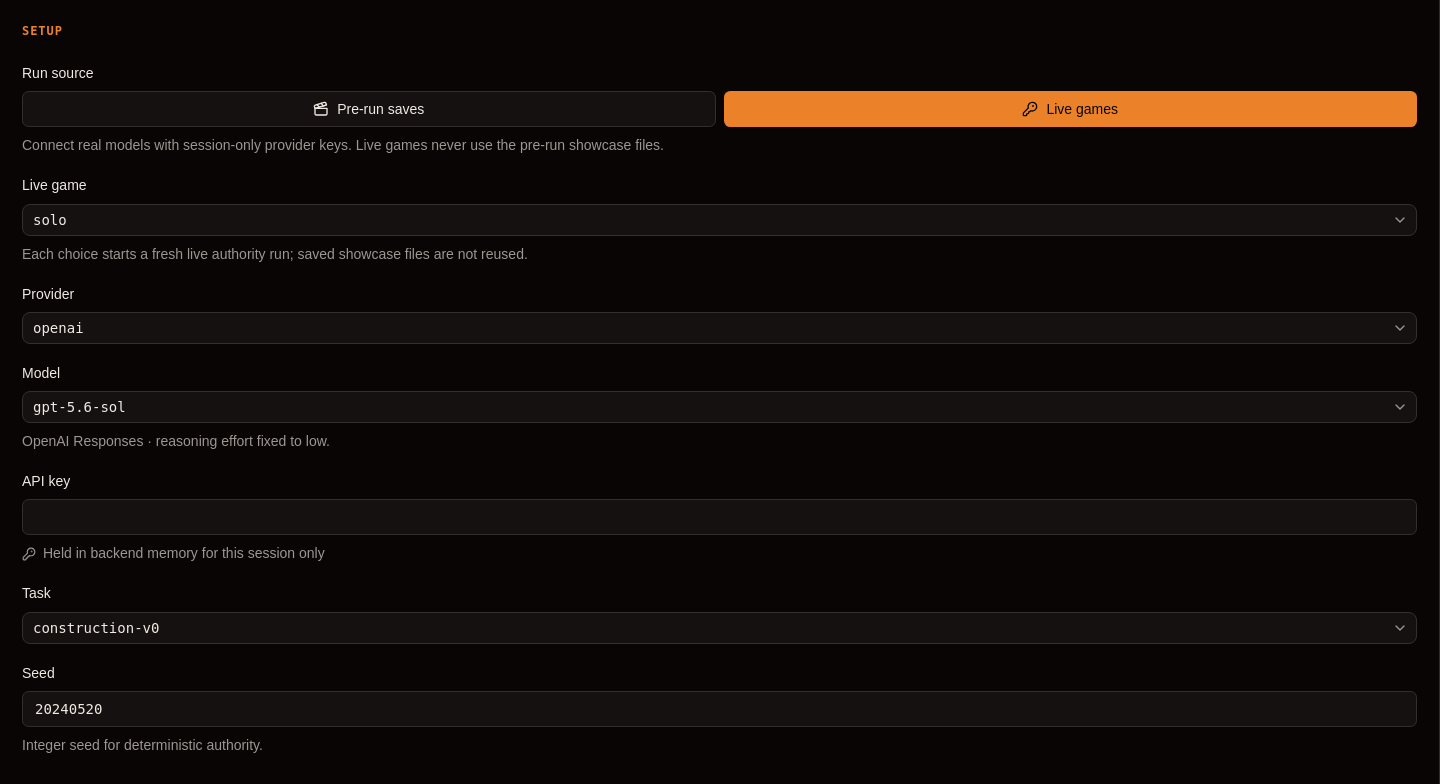
Test: SetupPanel › offers the OpenAI 5.6 family at fixed low reasoning effort
Step 1. Click the dropdown named "Model" → [79, 407], box [22,391,1417,423]
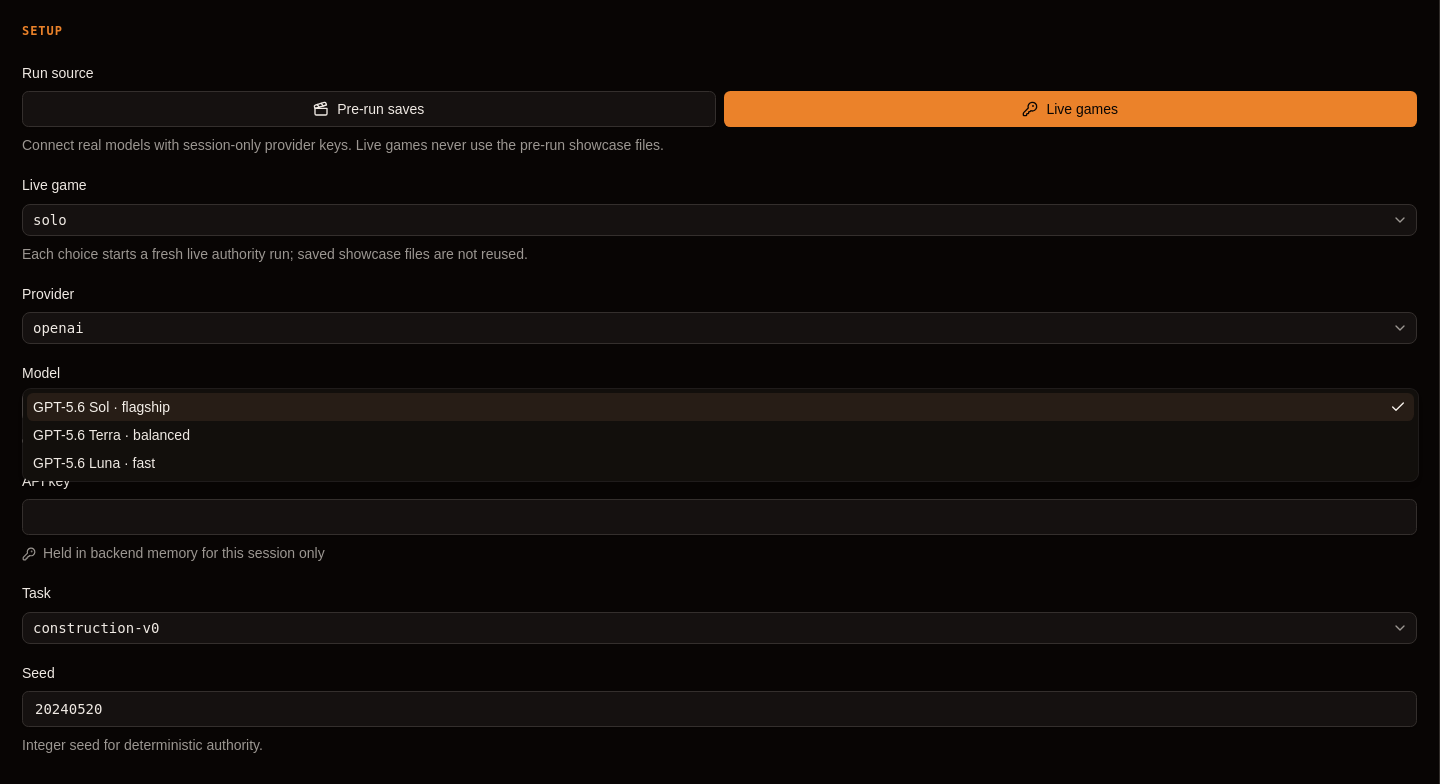
Result: the option "GPT-5.6 Sol · flagship" is shown at [27,393,1414,421]
Result: the option "GPT-5.6 Terra · balanced" is shown at [33,427,190,443]
Result: the option "GPT-5.6 Luna · fast" is shown at [33,455,155,471]
